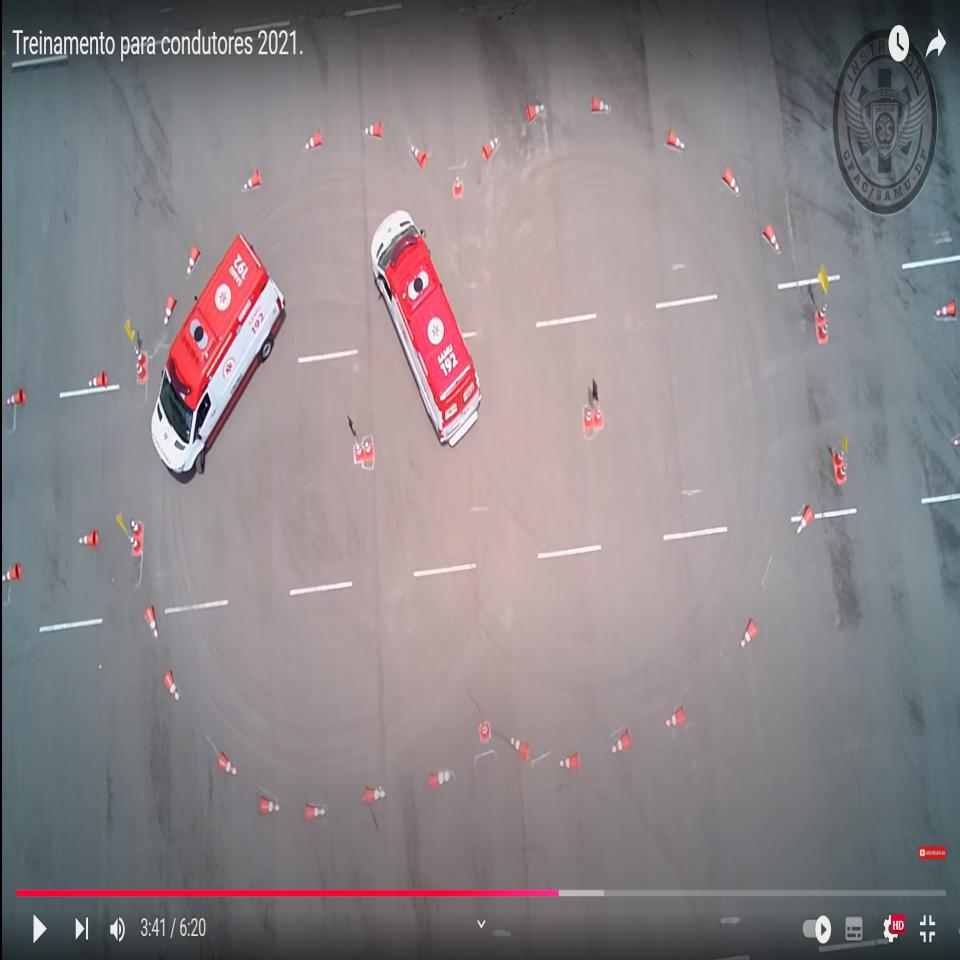bombeiro: (149, 233, 288, 483), (369, 207, 482, 452)
